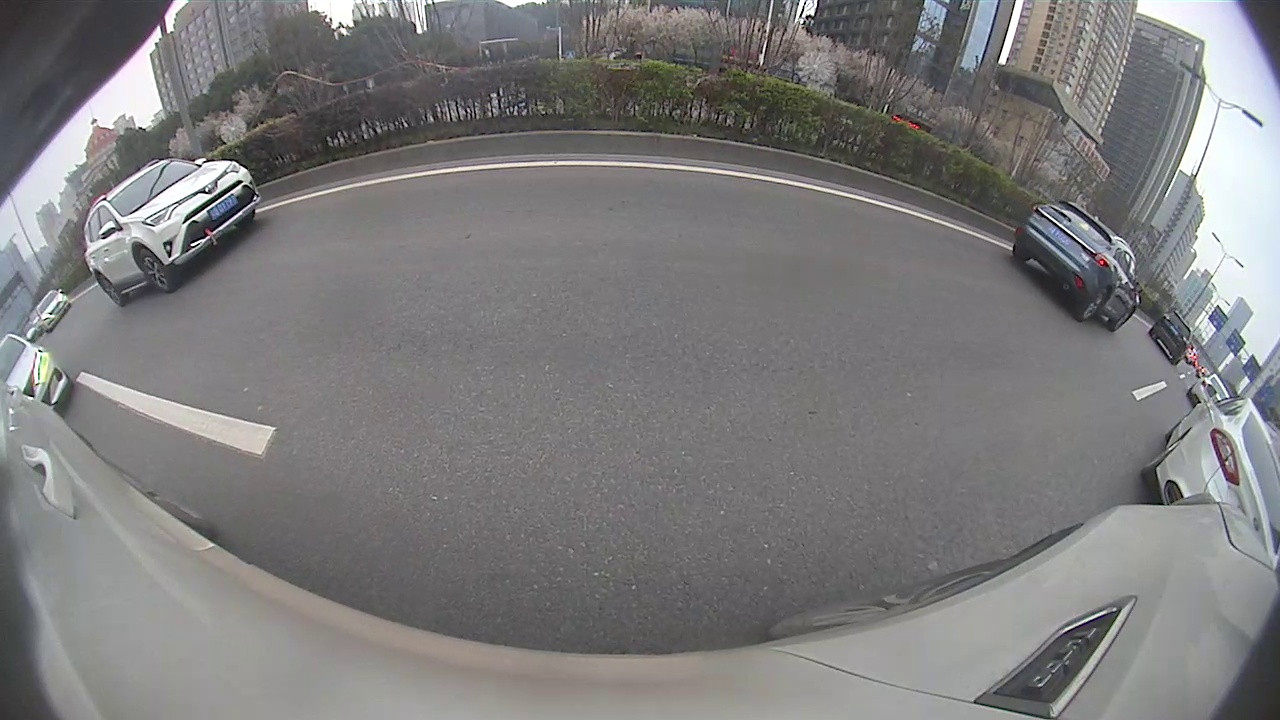bus: (718, 136, 795, 185)
car: (65, 143, 467, 408), (757, 132, 922, 237), (1, 326, 107, 454)
front: (437, 204, 470, 254), (756, 181, 774, 210)
rear: (221, 275, 314, 378), (811, 191, 836, 229)
